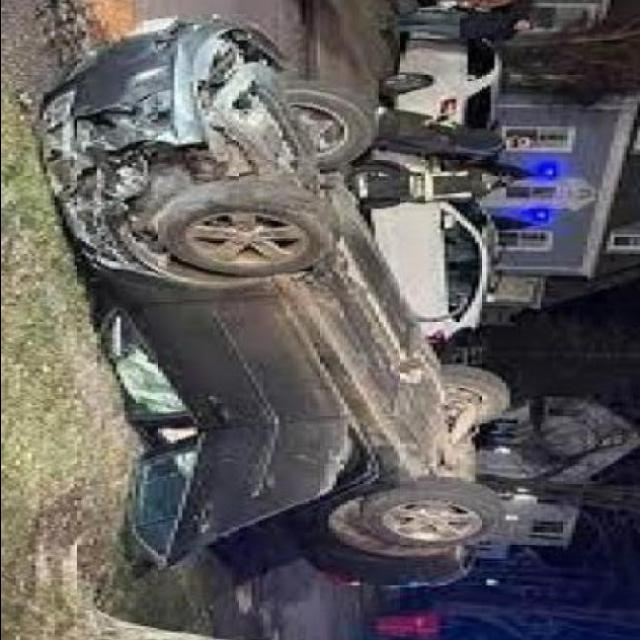accident: (32, 19, 511, 588)
